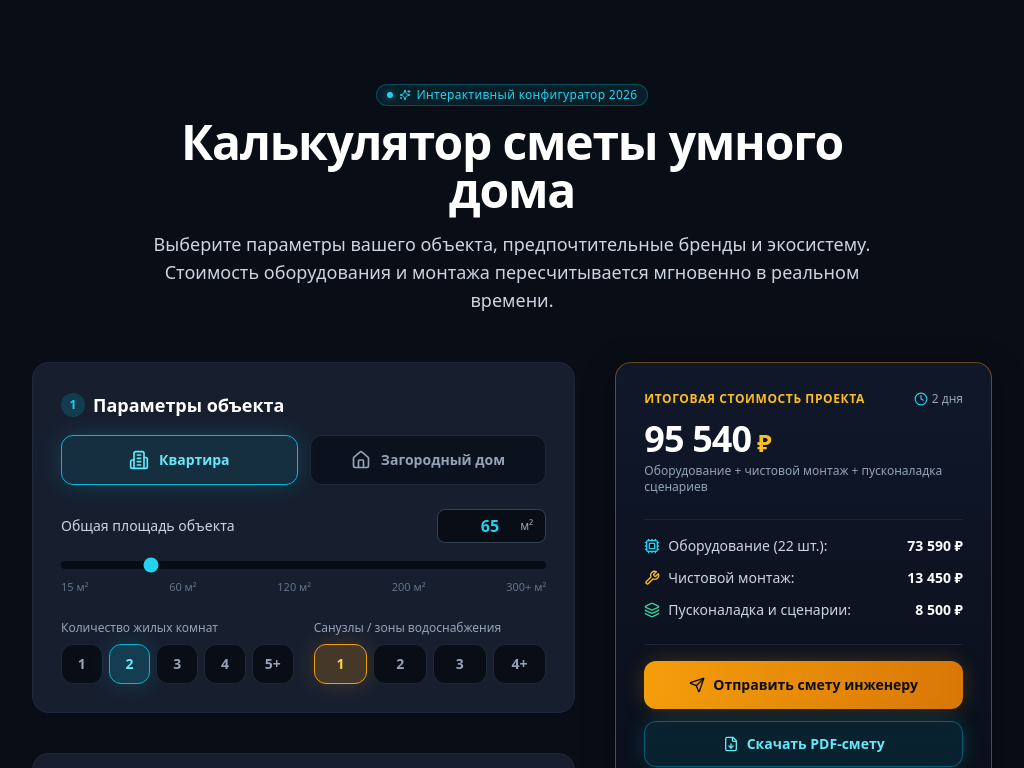
Scenario: CalculatorView Component › opens LeadModal when clicking "Отправить смету инженеру"
Click the button "Отправить смету инженеру": [804, 685] box [644, 661, 963, 709]
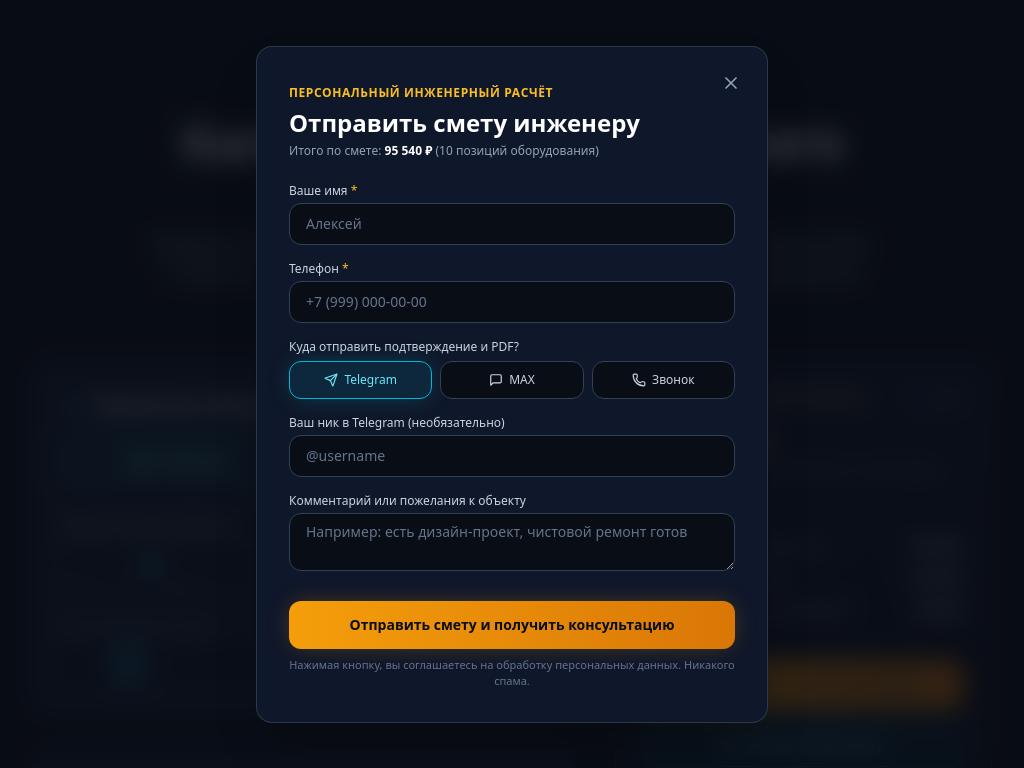
Now the dialog is shown, box [256, 46, 768, 722]
Now the heading "Отправить смету инженеру" is shown, box [289, 106, 640, 138]
